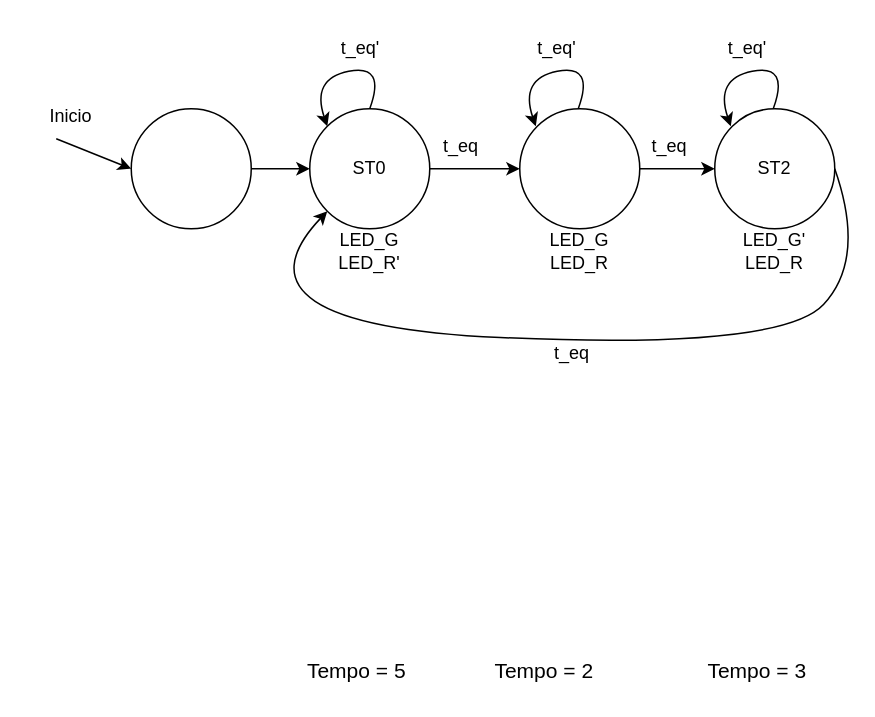
Image size: 875x717. Some labels were removed from this diagram. Each missing label, with the box of its shape:
RESET: (130, 107, 251, 229)
ST1: (518, 107, 640, 229)
